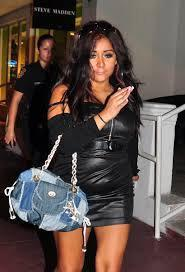Drunk: (84, 38, 119, 80)
